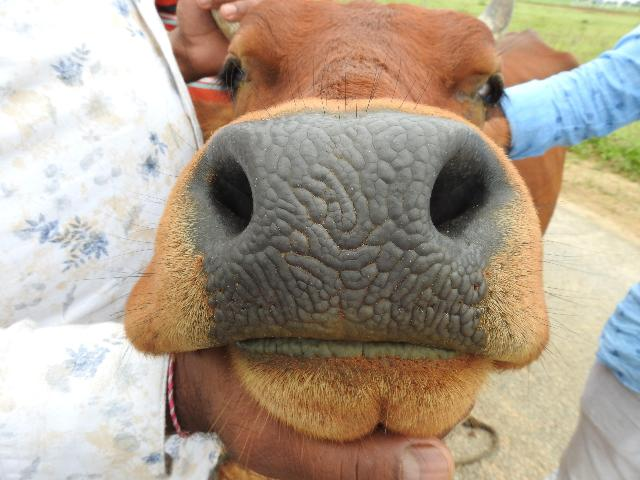Muzzle: (210, 126, 456, 340)
